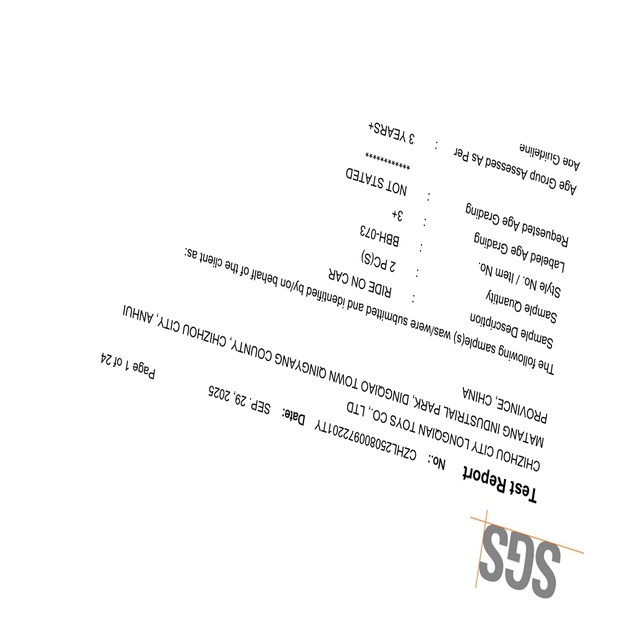sgs: (478, 523, 561, 599)
